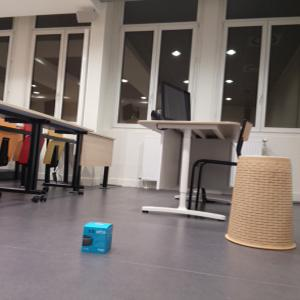medium: (227, 155, 296, 250)
small: (81, 222, 112, 252)
